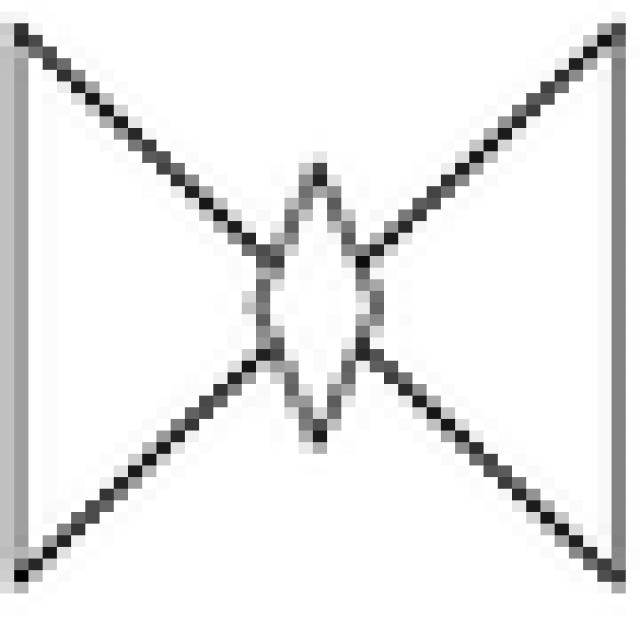Plug Valve: (13, 26, 622, 579)
